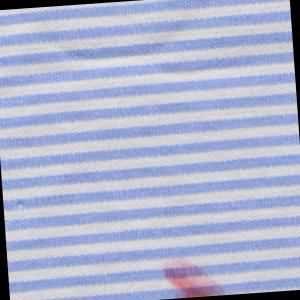Stain: (157, 247, 234, 300)
